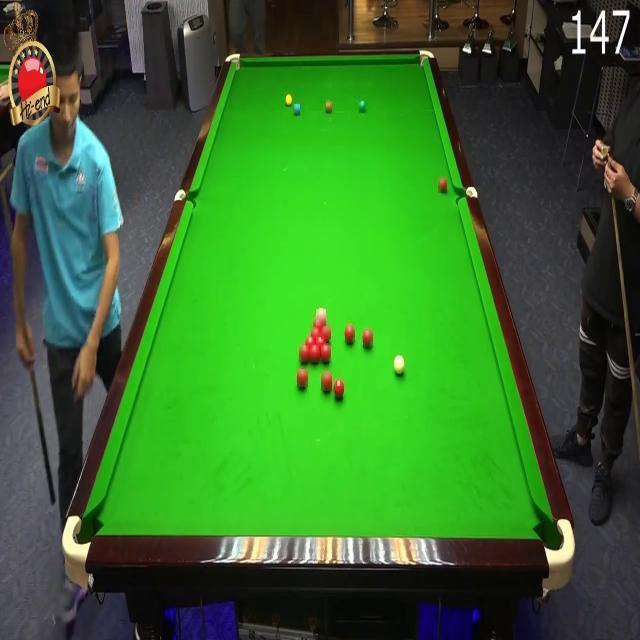Ball: (393, 354, 406, 376), (333, 379, 345, 401), (321, 371, 332, 391), (297, 369, 308, 387), (321, 343, 331, 362), (299, 345, 310, 362), (345, 325, 355, 343), (363, 330, 373, 348), (310, 345, 320, 362), (316, 309, 326, 326), (438, 176, 447, 193), (316, 336, 326, 351), (321, 324, 331, 339), (313, 319, 323, 332), (306, 335, 315, 349), (311, 326, 321, 337), (359, 102, 367, 113), (285, 94, 292, 106), (326, 100, 332, 113), (294, 104, 300, 115)
